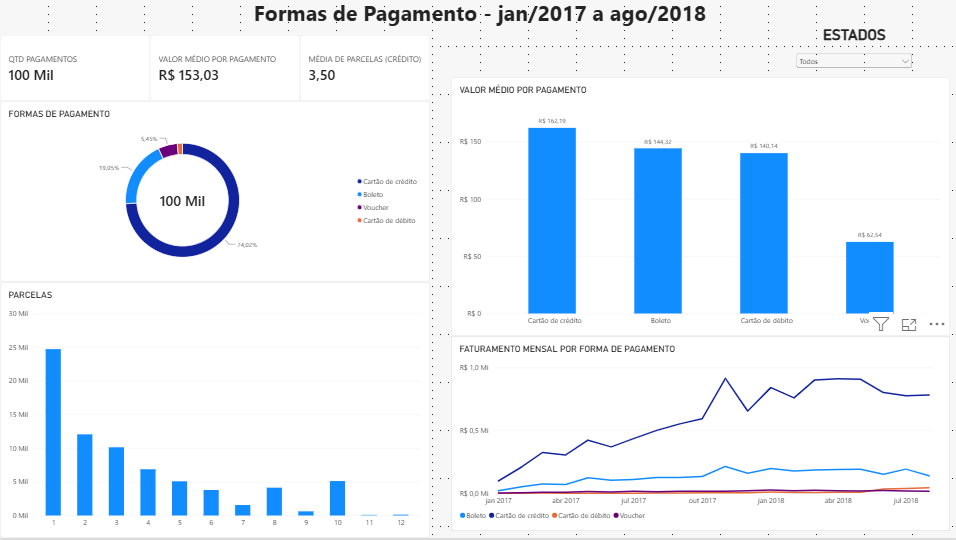

The page's visual inventory and layout, read from the dashboard file:
{"tool":"powerbi","page":{"name":"PAGAMENTOS","canvas":[1920,1080],"ordinal":1},"visuals":[{"type":"textbox","box":[300,0,1320,110],"z":0},{"type":"cardVisual","fields":{"Data":["pagamentos.QTD PAGAMENTOS"]},"box":[0,74,300,132],"z":1000},{"type":"cardVisual","fields":{"Data":["pagamentos.VALOR MÉDIO POR PAGAMENTO"]},"box":[300,74,300,132],"z":2000},{"type":"cardVisual","fields":{"Data":["pagamentos.MÉDIA DE PARCELAS (CRÉDITO)"]},"box":[600,74,260,132],"z":3000},{"type":"slicer","title":"ESTADOS","fields":{"Values":["pedidos.estado"]},"box":[1578,74,241.1,132.3],"z":4000},{"type":"donutChart","title":"FORMAS DE PAGAMENTO","fields":{"Category":["pagamentos.tipo_pagamento"],"Y":["pagamentos.QTD PAGAMENTOS"]},"box":[0,206,860,362],"z":5000},{"type":"clusteredColumnChart","title":"VALOR MÉDIO POR PAGAMENTO","fields":{"Category":["pagamentos.tipo_pagamento"],"Y":["pagamentos.VALOR MÉDIO POR PAGAMENTO"]},"box":[902,206,998,470],"z":5001},{"type":"clusteredColumnChart","title":"PARCELAS","fields":{"Category":["pagamentos.parcelas"],"Y":["pagamentos.QTD PAGAMENTOS"]},"box":[0,568,860,512],"z":5002},{"type":"lineChart","title":"FATURAMENTO MENSAL POR FORMA DE PAGAMENTO","fields":{"Category":["pedidos.mes_compra"],"Series":["pagamentos.tipo_pagamento"],"Y":["pagamentos.FATURAMENTO"]},"box":[902,676,998,390],"z":5003}]}

Visuals, with their boxes in screenshot pixels (x1, y1, x2, y2), scaled from the page's 1920x1080 canvas onto the 956x540 screenshot:
textbox: 149:0:807:55
cardVisual - pagamentos.QTD PAGAMENTOS: 0:37:149:103
cardVisual - pagamentos.VALOR MÉDIO POR PAGAMENTO: 149:37:299:103
cardVisual - pagamentos.MÉDIA DE PARCELAS (CRÉDITO): 299:37:428:103
"ESTADOS" slicer: 786:37:906:103
"FORMAS DE PAGAMENTO" donutChart: 0:103:428:284
"VALOR MÉDIO POR PAGAMENTO" clusteredColumnChart: 449:103:946:338
"PARCELAS" clusteredColumnChart: 0:284:428:539
"FATURAMENTO MENSAL POR FORMA DE PAGAMENTO" lineChart: 449:338:946:533
